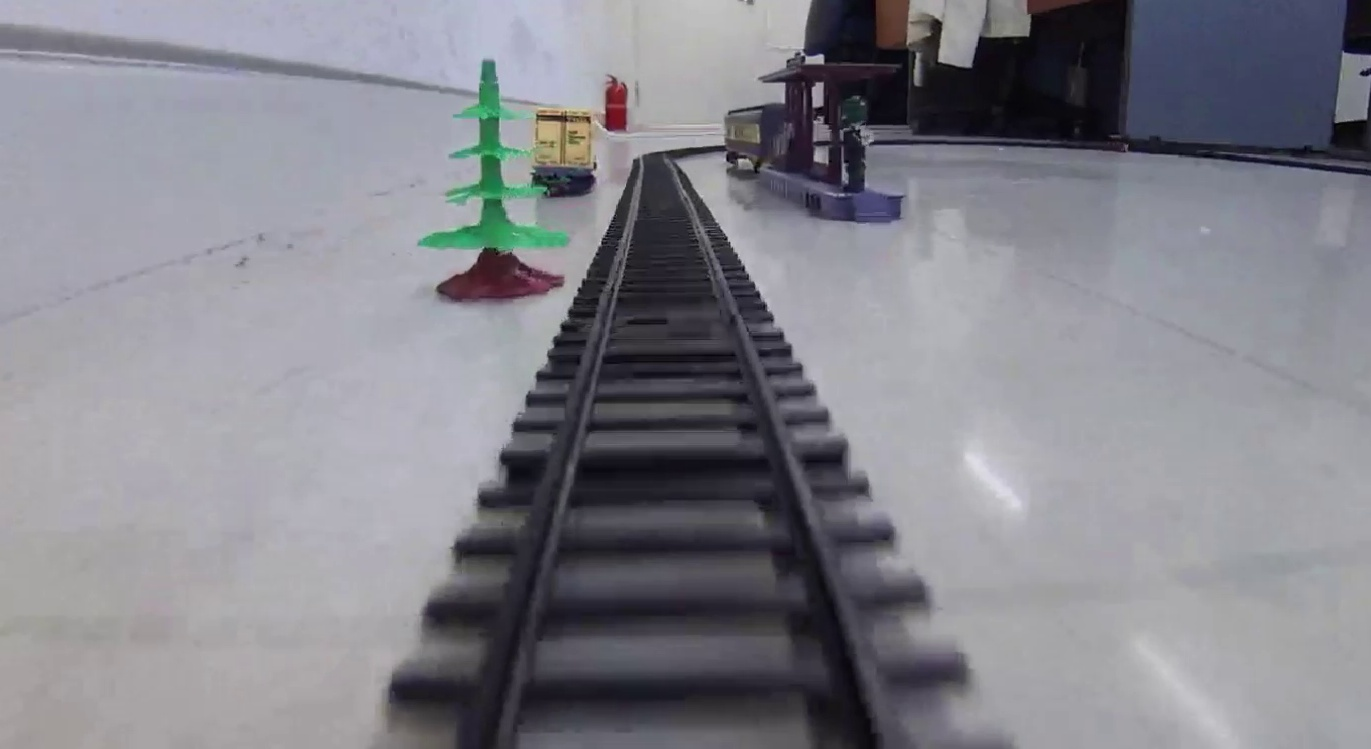people: (838, 97, 872, 191)
tree: (419, 57, 574, 296)
